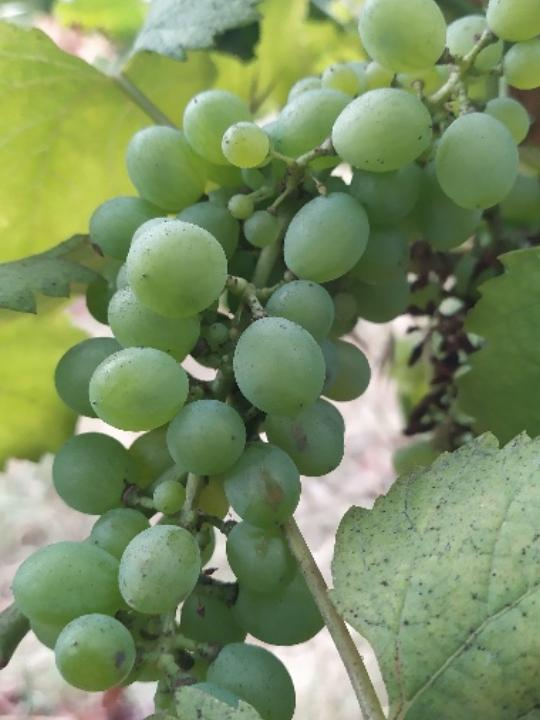grape: (7, 0, 540, 720)
